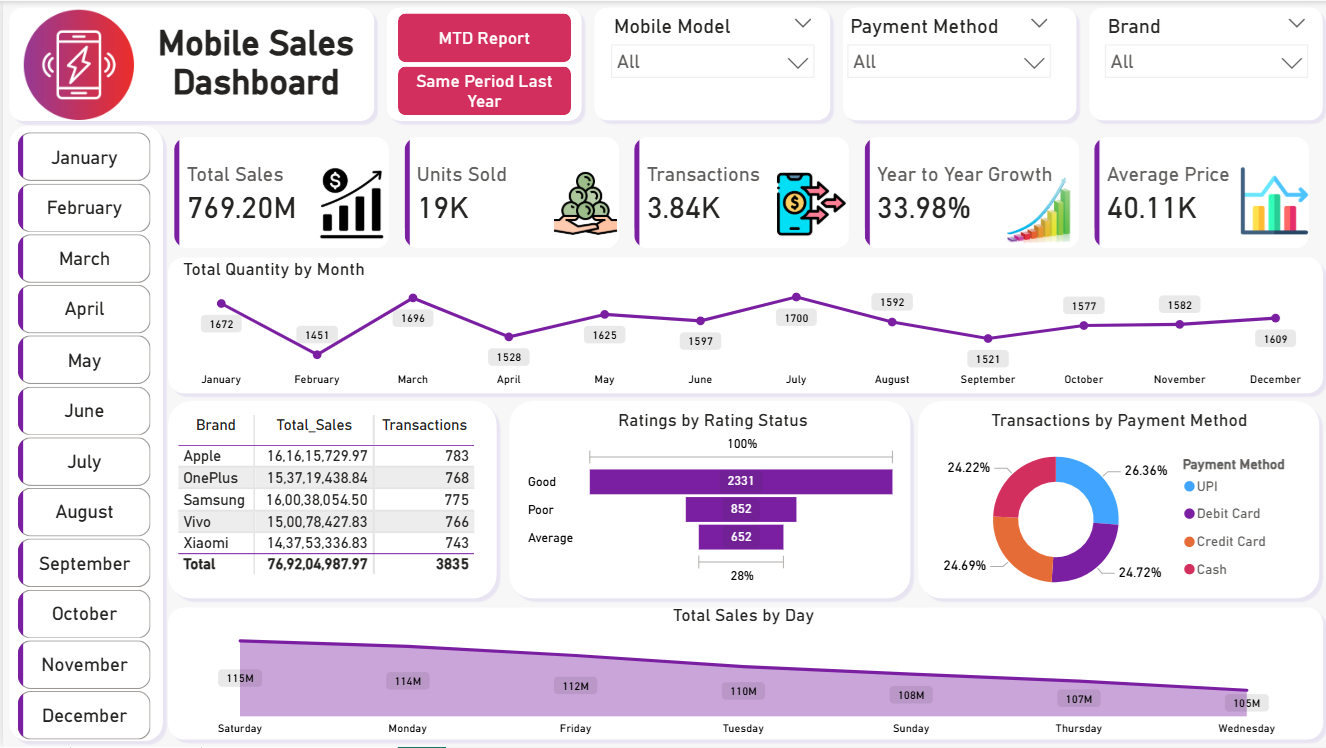

The page's visual inventory and layout, read from the dashboard file:
{"tool":"powerbi","page":{"name":"Overview","canvas":[1280,720],"ordinal":0},"visuals":[{"type":"shape","box":[0,0,364.3,121.9],"z":0},{"type":"image","box":[9.7,8.4,126.7,106.2],"z":1000},{"type":"shape","box":[364.3,0,200.3,121.9],"z":2000},{"type":"shape","box":[0,114.6,160.5,605.6],"z":3000},{"type":"advancedSlicerVisual","fields":{"Values":["Custom_Date.Date.Variation.Date Hierarchy.Month"]},"box":[9.7,121.9,138.7,598.4],"z":4000},{"type":"textbox","box":[136.3,15.7,216,91.7],"z":5000},{"type":"shape","box":[565,0,240,121.2],"z":6000},{"type":"shape","box":[1042.5,0,237.5,121.2],"z":7000},{"type":"shape","box":[805,0,237.5,121.2],"z":8000},{"type":"slicer","fields":{"Values":["Mobile_Sales_Data.Mobile Model"]},"box":[576.2,8.8,216.2,88.8],"z":9000},{"type":"slicer","fields":{"Values":["Mobile_Sales_Data.Payment Method"]},"box":[805,8.8,216.2,88.8],"z":10000},{"type":"slicer","fields":{"Values":["Mobile_Sales_Data.Brand"]},"box":[1053.8,8.8,216.2,88.8],"z":11000},{"type":"cardVisual","fields":{"Data":["Mobile_Sales_Data.Total_Sales","Mobile_Sales_Data.Total_Quantity","Mobile_Sales_Data.Transactions","Mobile_Sales_Data.YoY Growth %","Mobile_Sales_Data.Average_Price"]},"box":[148.4,114.6,1131.6,141.2],"z":12000},{"type":"image","box":[485,162.9,154.4,65.1],"z":13000},{"type":"image","box":[901.2,152,195.4,89.3],"z":14000},{"type":"image","box":[272.7,160.5,127.9,70],"z":15000},{"type":"image","box":[716.6,162.9,127.9,66.4],"z":16000},{"type":"image","box":[1173.9,160.5,106.2,65.1],"z":17000},{"type":"shape","box":[153.2,241.3,1126.8,143.6],"z":18000},{"type":"lineChart","title":"Total Quantity by Month","fields":{"Category":["Custom_Date.Date.Variation.Date Hierarchy.Month"],"Y":["Mobile_Sales_Data.Total_Quantity"]},"box":[168.9,248.5,1101.5,131.5],"z":19000},{"type":"shape","box":[153.2,380,329.4,202.7],"z":20000},{"type":"tableEx","fields":{"Values":["Mobile_Sales_Data.Brand","Mobile_Sales_Data.Total_Sales","Mobile_Sales_Data.Transactions"]},"box":[162.9,394.5,307.6,173.7],"z":21000},{"type":"shape","box":[482.6,380,399.3,202.7],"z":22000},{"type":"funnel","title":"Ratings by Rating Status","fields":{"Category":["Mobile_Sales_Data.Rating_Status"],"Y":["CountNonNull(Mobile_Sales_Data.Rating_Status)"]},"box":[501.9,394.5,366.8,173.7],"z":23000},{"type":"shape","box":[877.1,380,399.3,202.7],"z":24000},{"type":"donutChart","fields":{"Y":["Mobile_Sales_Data.Transactions"],"Category":["Mobile_Sales_Data.Payment Method"]},"box":[889.1,394.5,376.4,193],"z":25000},{"type":"shape","box":[153.2,579.1,1126.8,139.9],"z":26000},{"type":"stackedAreaChart","title":"Total Sales by Day ","fields":{"Category":["Custom_Date.Day Name"],"Y":["Mobile_Sales_Data.Total_Sales"]},"box":[159.3,582.7,1111.1,133.9],"z":27000},{"type":"pageNavigator","box":[381.2,12.1,167.7,98.9],"z":27001}]}

Visuals, with their boxes in screenshot pixels (x1, y1, x2, y2), scaled from the page's 1280x720 canvas onto the 1326x748 screenshot:
shape: locate(0, 0, 377, 127)
image: locate(10, 9, 141, 119)
shape: locate(377, 0, 585, 127)
shape: locate(0, 119, 166, 747)
advancedSlicerVisual - Custom_Date.Date.Variation.Date Hierarchy.Month: locate(10, 127, 154, 747)
textbox: locate(141, 16, 365, 112)
shape: locate(585, 0, 834, 126)
shape: locate(1080, 0, 1325, 126)
shape: locate(834, 0, 1080, 126)
slicer - Mobile_Sales_Data.Mobile Model: locate(597, 9, 821, 101)
slicer - Mobile_Sales_Data.Payment Method: locate(834, 9, 1058, 101)
slicer - Mobile_Sales_Data.Brand: locate(1092, 9, 1316, 101)
cardVisual - Mobile_Sales_Data.Total_Sales x Mobile_Sales_Data.Total_Quantity: locate(154, 119, 1325, 266)
image: locate(502, 169, 662, 237)
image: locate(934, 158, 1136, 251)
image: locate(283, 167, 415, 239)
image: locate(742, 169, 875, 238)
image: locate(1216, 167, 1325, 234)
shape: locate(159, 251, 1325, 400)
"Total Quantity by Month" lineChart: locate(175, 258, 1316, 395)
shape: locate(159, 395, 500, 605)
tableEx - Mobile_Sales_Data.Brand x Mobile_Sales_Data.Total_Sales: locate(169, 410, 487, 590)
shape: locate(500, 395, 914, 605)
"Ratings by Rating Status" funnel: locate(520, 410, 900, 590)
shape: locate(909, 395, 1322, 605)
donutChart - Mobile_Sales_Data.Transactions x Mobile_Sales_Data.Payment Method: locate(921, 410, 1311, 610)
shape: locate(159, 602, 1325, 747)
"Total Sales by Day " stackedAreaChart: locate(165, 605, 1316, 744)
pageNavigator: locate(395, 13, 569, 115)
